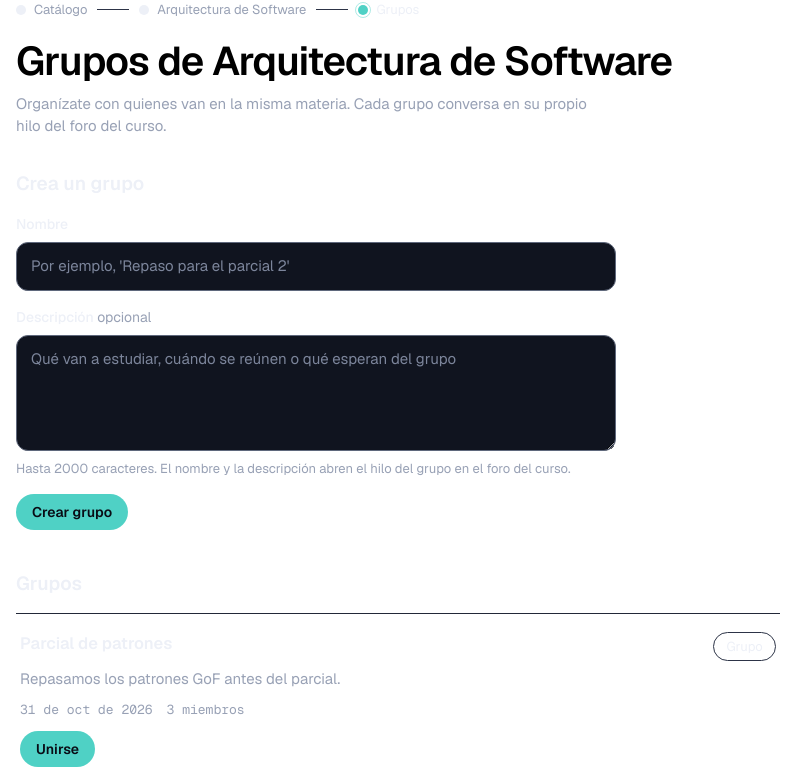
Test case: Unirse a un grupo de estudio y salir de él (HU405) › con sesión, quien no es miembro se une: el grupo lo dice, suma un miembro, el foco va a «Salir» y se anuncia
Click the button with aria-label "Unirse al grupo Parcial de patrones" at x=58, y=749, box [20,731,95,767]
(page scrolled)
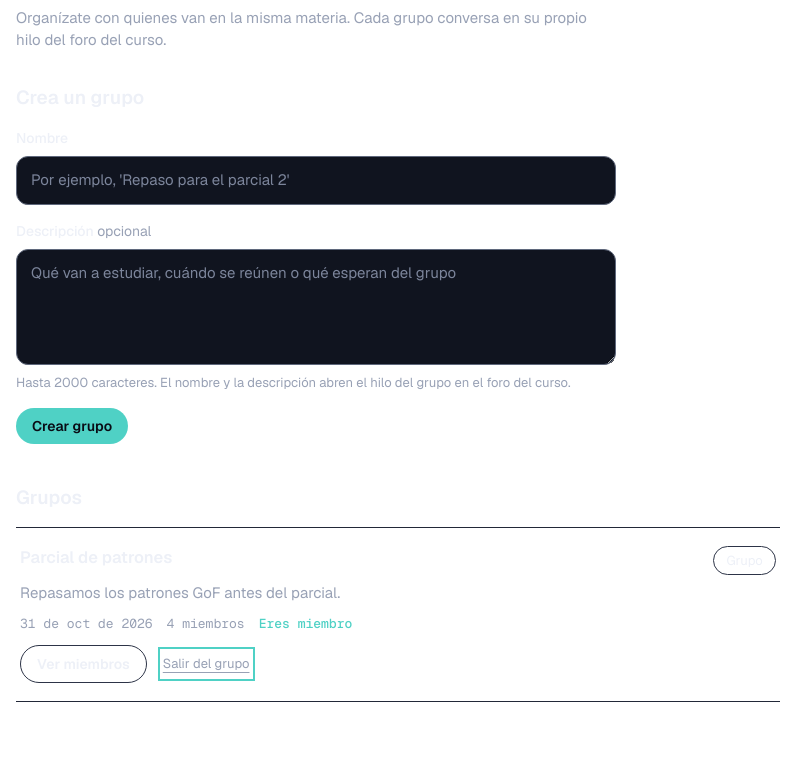
Check: the element that starts with "Parcial de patrones" shows "Eres miembro", box [259,615,352,632]
Check: the element that starts with "Parcial de patrones" shows "4 miembros", box [167,615,245,632]
Check: the button "Unirse" is gone
